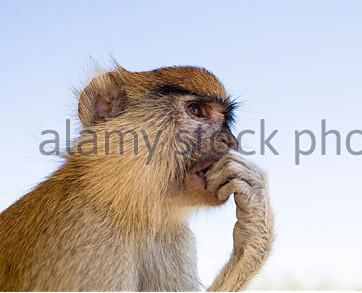monkey: (0, 66, 275, 293)
